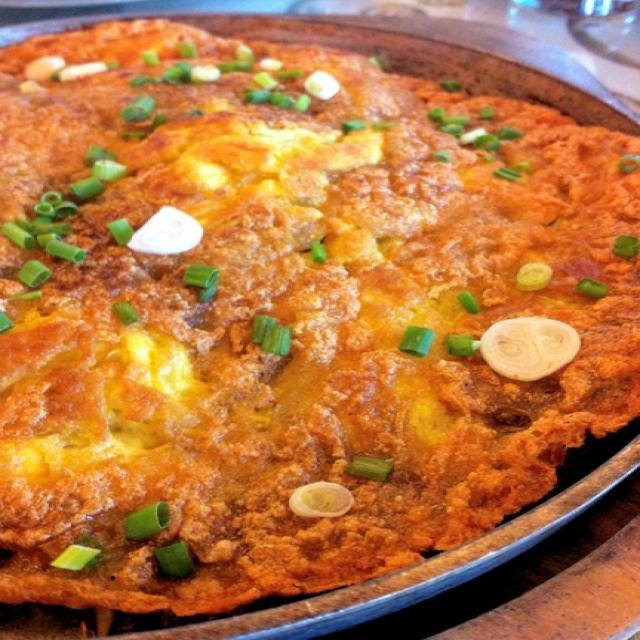炸货点心: (2, 18, 631, 618)
蛋糕甜品: (2, 18, 631, 618)
